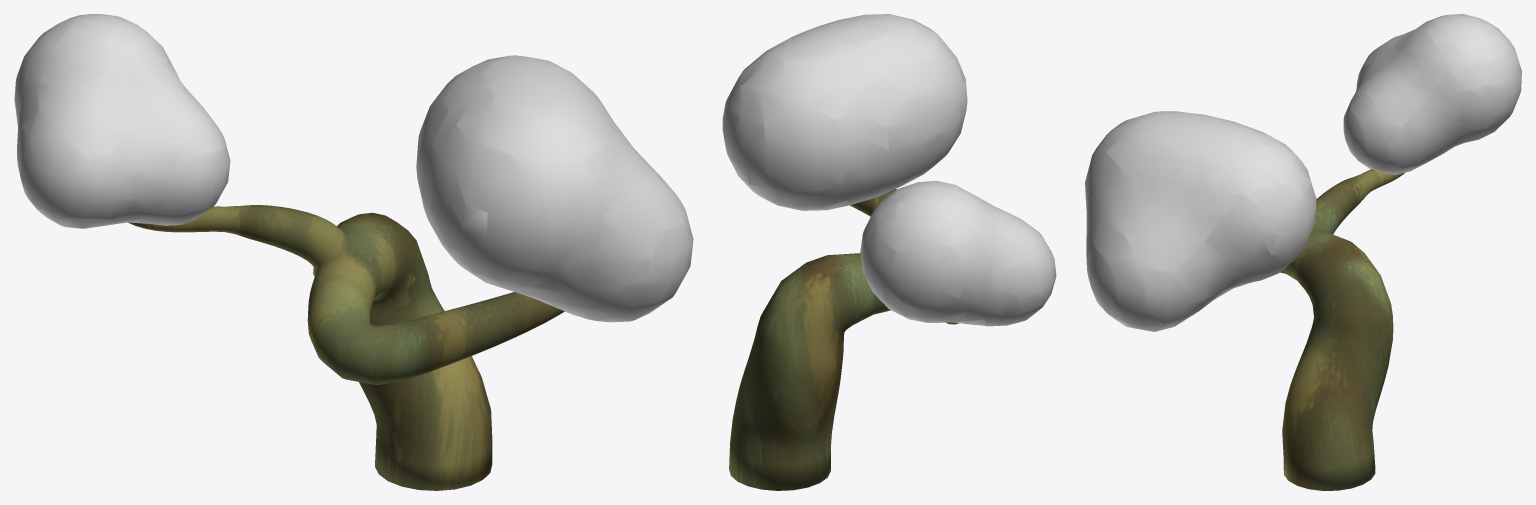
The model's file is big_tree.fbx.
The picture shows the model from 3 angles, left to right: view 1: azimuth 30°, elevation 25°; view 2: azimuth 150°, elevation 25°; view 3: azimuth 270°, elevation 25°; orthographic projection. The views are drawn at different scales.
Parts seen in each view (by area): view 1: Cylinder.001; view 2: Cylinder.001; view 3: Cylinder.001.
Part boxes in pixels (box(x1,y1,x2,y2)): Cylinder.001: box(14, 14, 693, 490); Cylinder.001: box(722, 14, 1056, 490); Cylinder.001: box(1085, 14, 1521, 490).
Bounding box in the file's own units: 2417 × 2099 × 2351.
